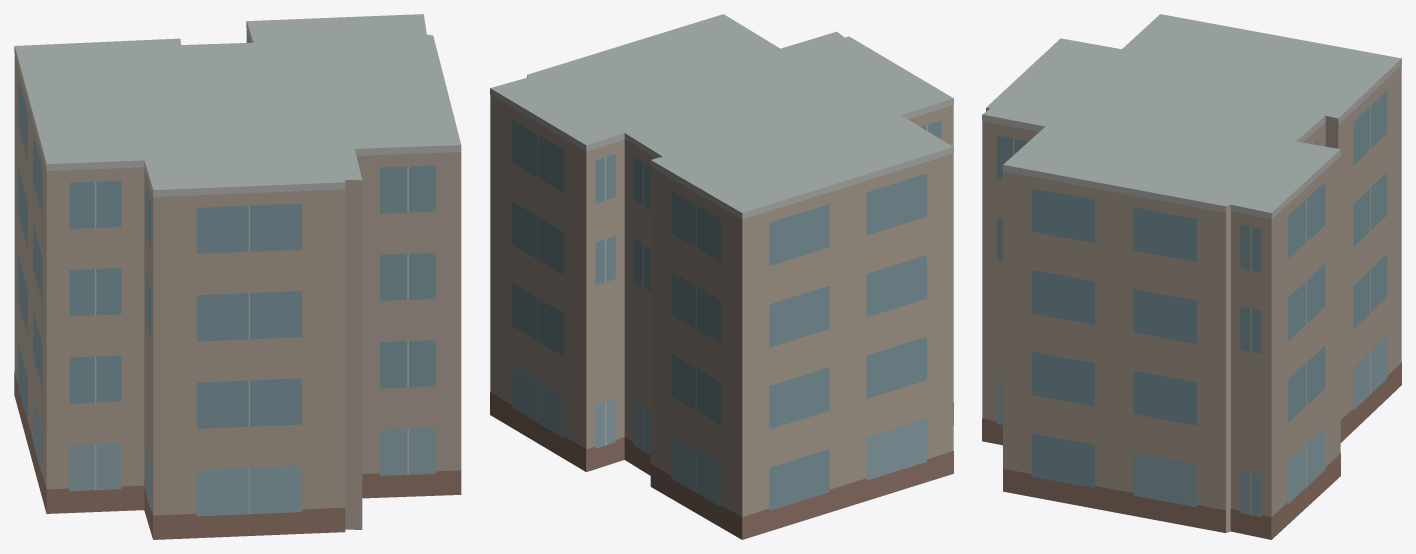
Rendered from survey-upis-32530526.glb.
The picture shows the model from 3 angles, left to right: view 1: azimuth 30°, elevation 25°; view 2: azimuth 150°, elevation 25°; view 3: azimuth 270°, elevation 25°; orthographic projection. The views are drawn at different scales.
Visible parts, largest first — view 1: survey-upis-32530526.tmp; view 2: survey-upis-32530526.tmp; view 3: survey-upis-32530526.tmp.
Boxes of the visible parts, x1,y1,x2,y2 form: survey-upis-32530526.tmp: [14, 14, 461, 539]; survey-upis-32530526.tmp: [490, 14, 953, 539]; survey-upis-32530526.tmp: [982, 14, 1401, 539].
Bounding box in the file's own units: 15.95 × 12.2 × 14.2.
